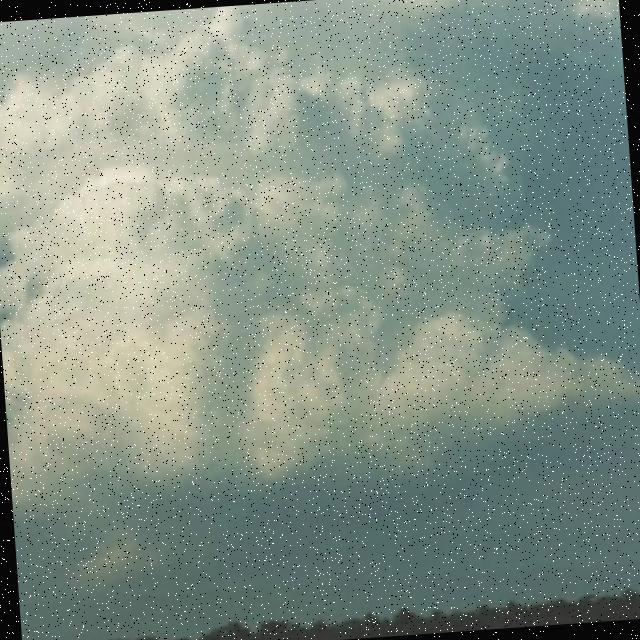Cb: (1, 5, 640, 533)
